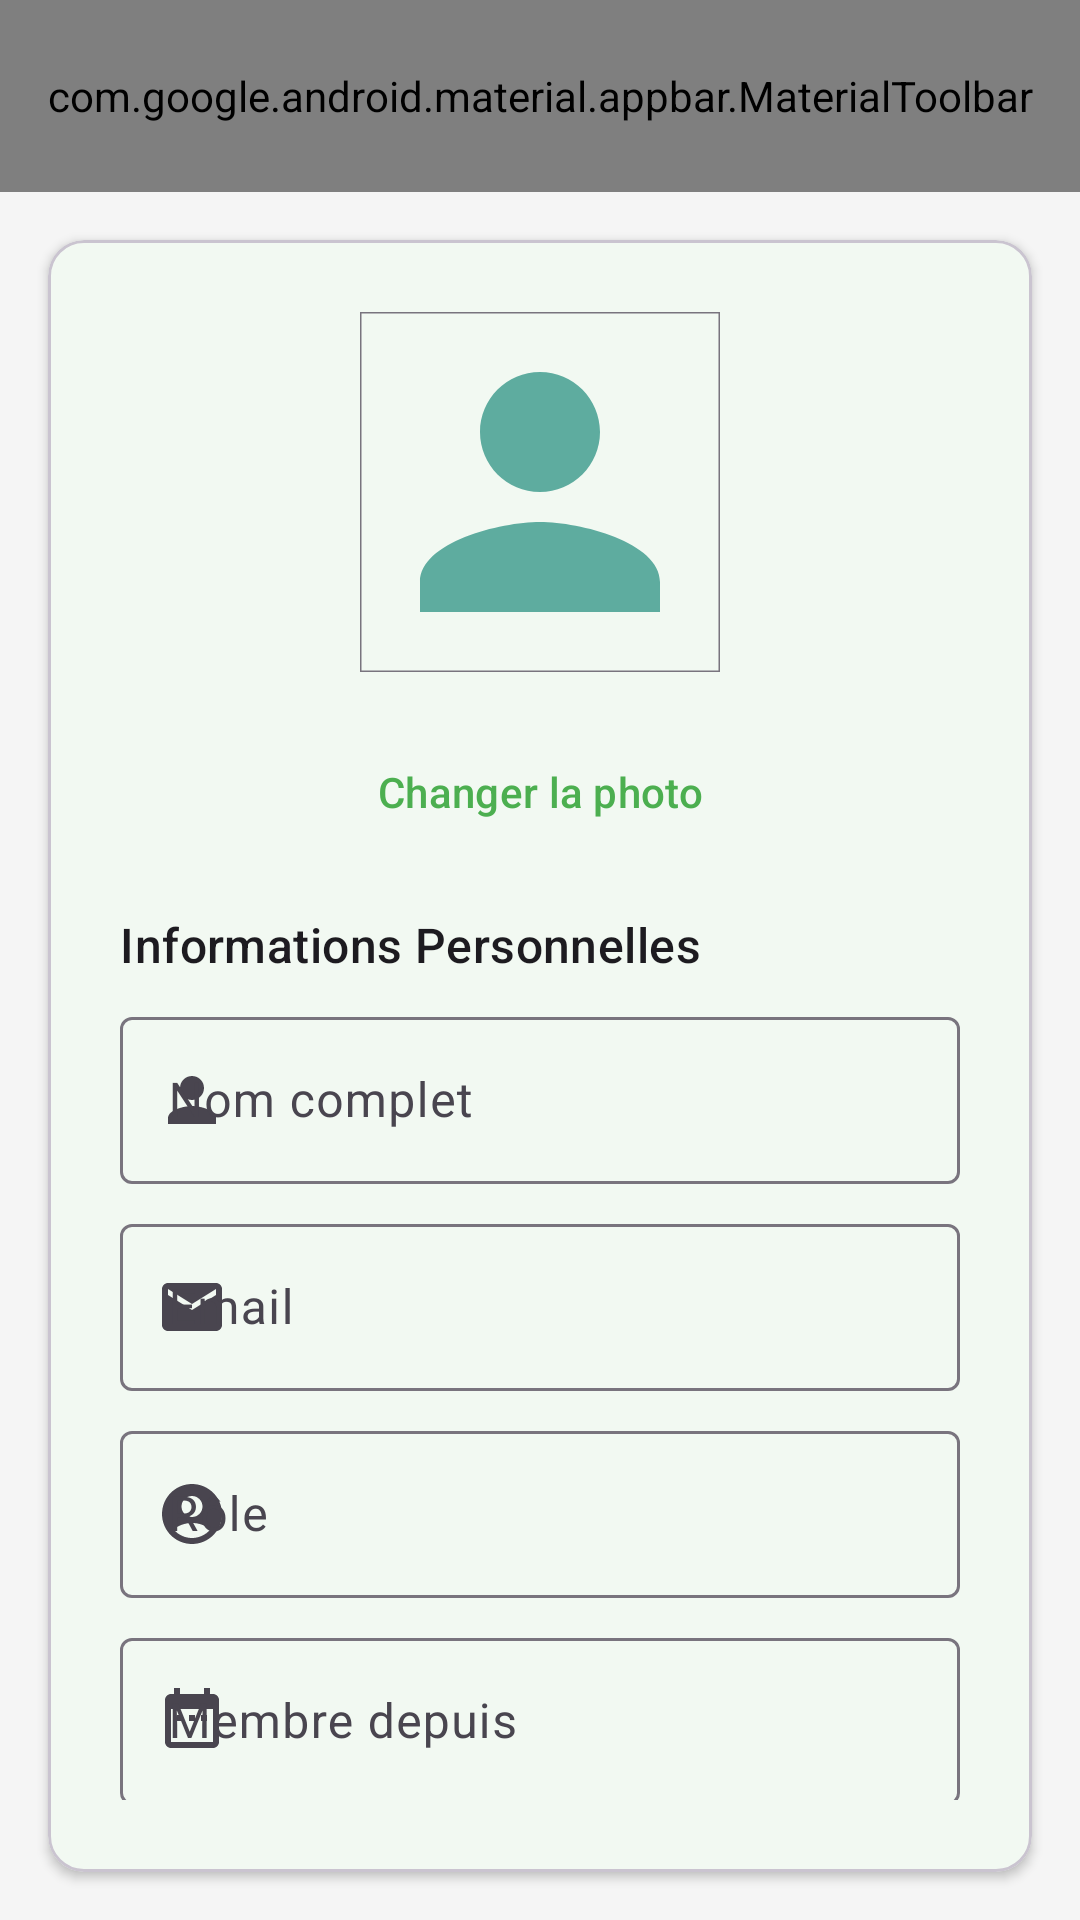

Icons on this 1080 x 1920 Android screen, each with its box as (x1, y1, x2, y2):
user: (360, 312, 720, 672)
